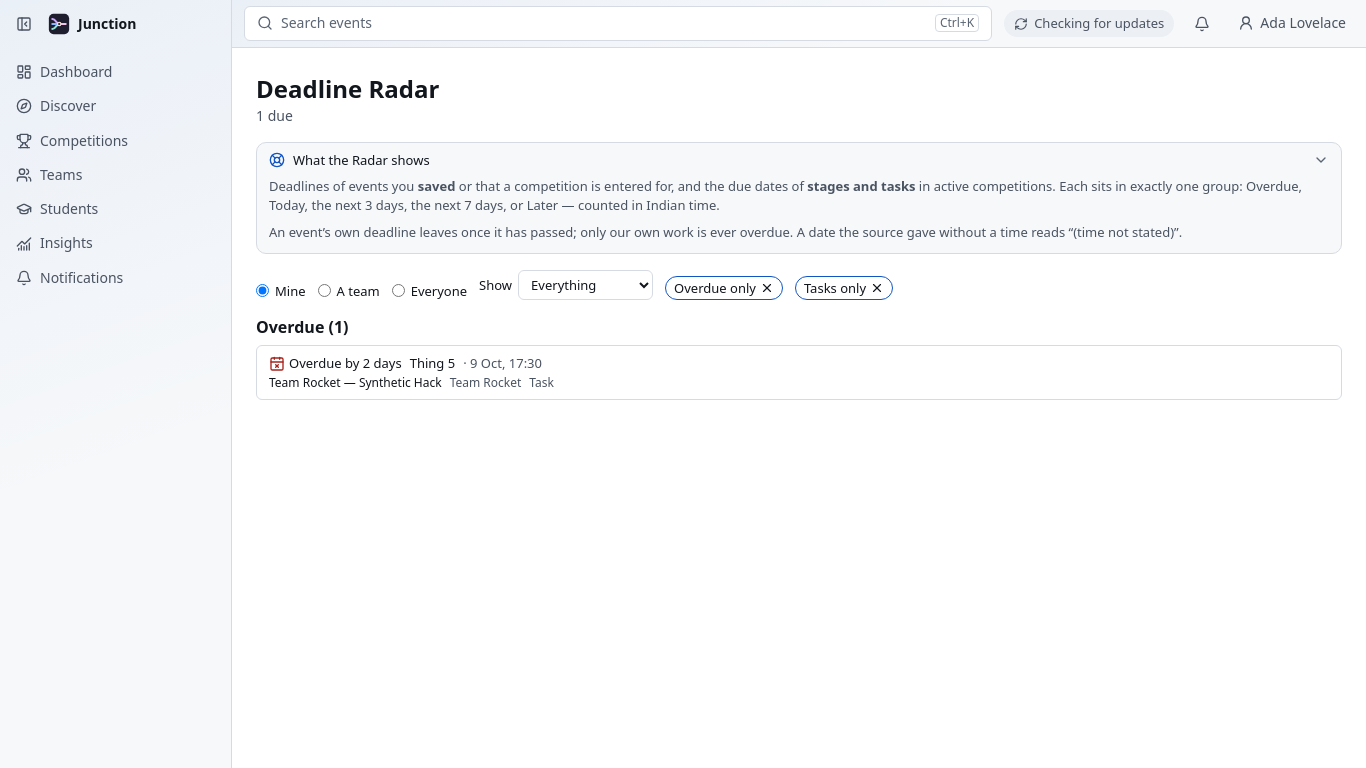
Test: the Radar › a link’s filters arrive as removable chips and reach the request
Expected: the navigation bar named "Main" is shown, [8, 8, 136, 287]
Expected: the text "1 due" is shown, [256, 106, 293, 125]
Click the button with aria-label "Remove filter: Overdue only".
click(724, 288)  # box [665, 276, 783, 300]
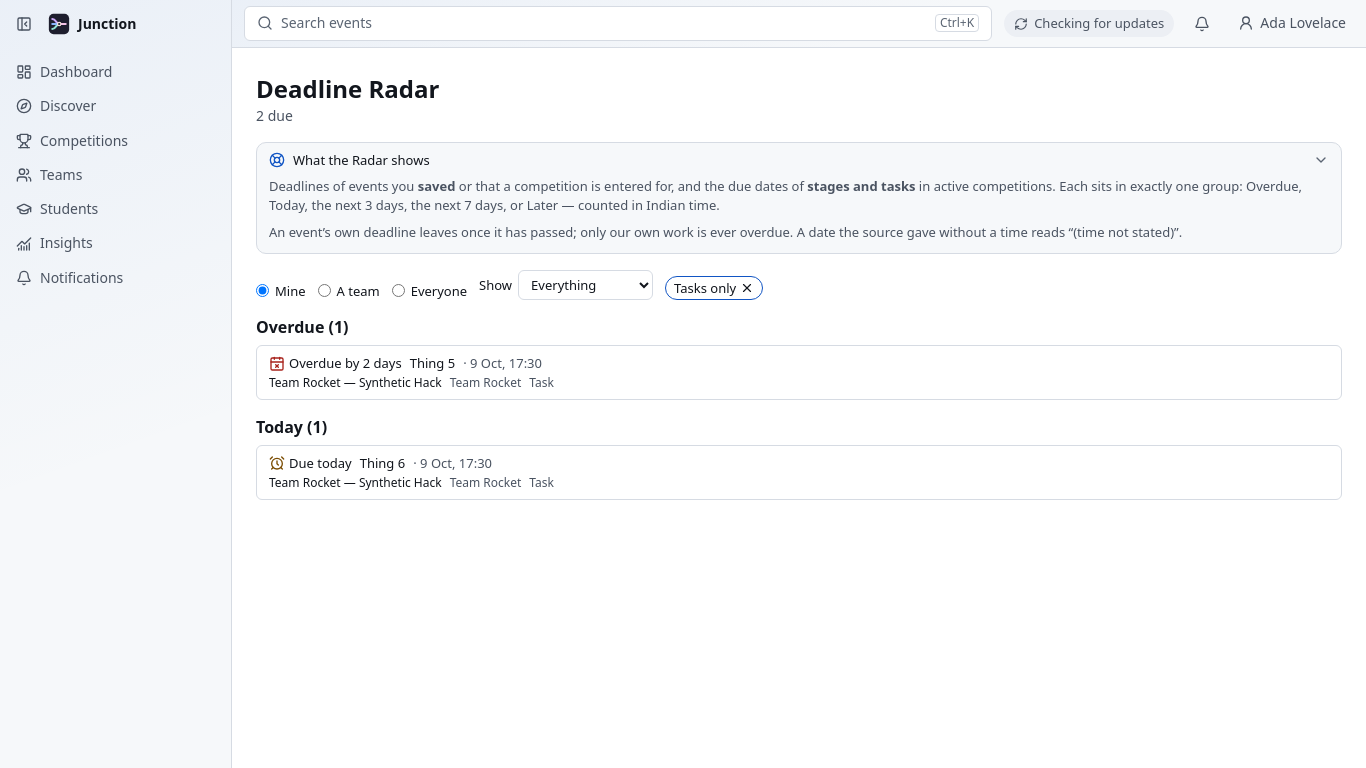
Expected: the text "2 due" is shown, [256, 106, 293, 125]
